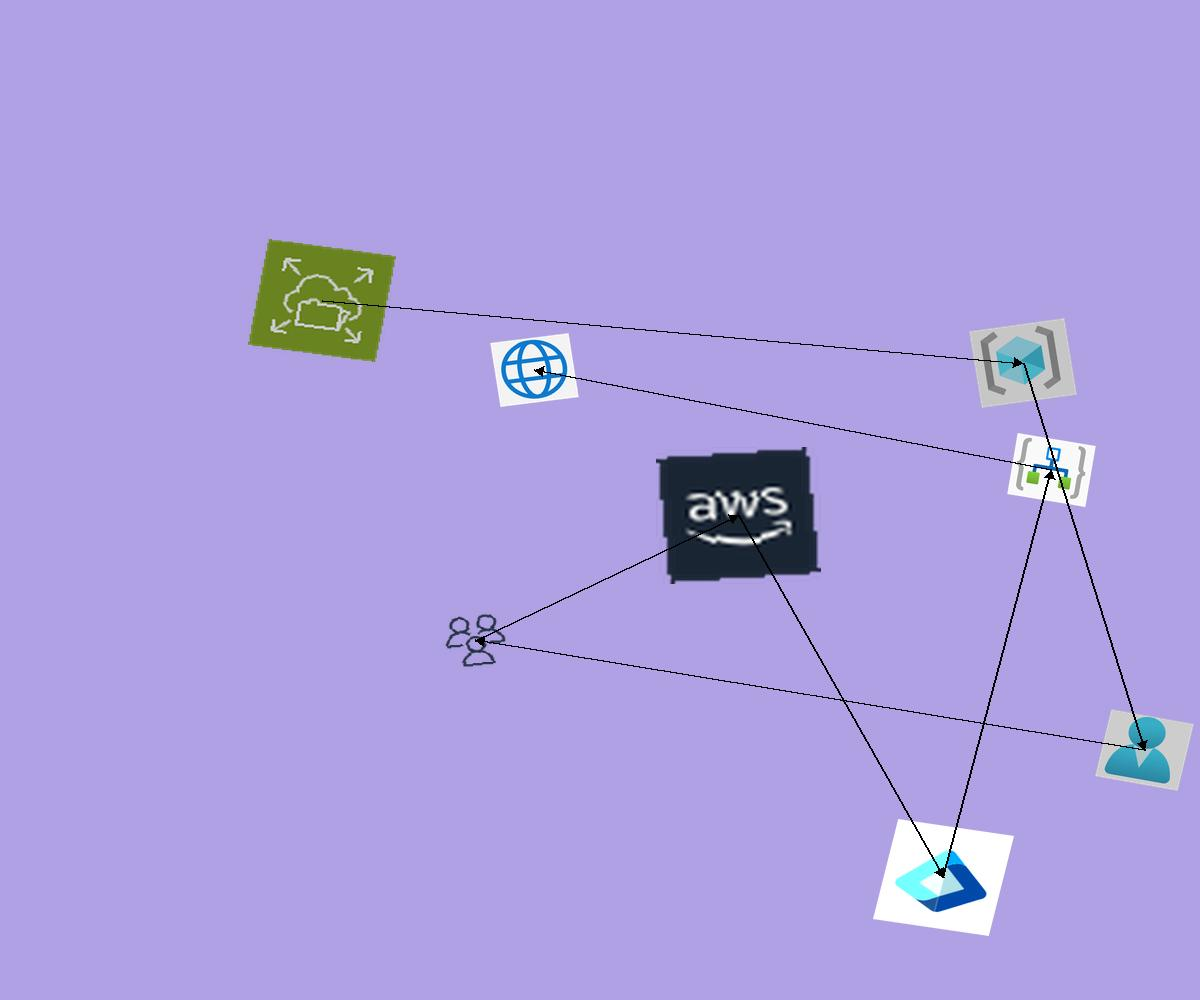AWS-Cloud-logo: (656, 447, 821, 584)
AWS-EFS: (248, 239, 396, 362)
AWS-Res_Users: (439, 610, 512, 671)
Azure_http: (490, 333, 579, 407)
Azure_integration-204-Logic-Apps: (1007, 433, 1096, 507)
Azure_microsoft_entra: (873, 819, 1014, 936)
Azure_resource_group: (969, 318, 1077, 408)
Azure_users: (1095, 709, 1194, 791)
